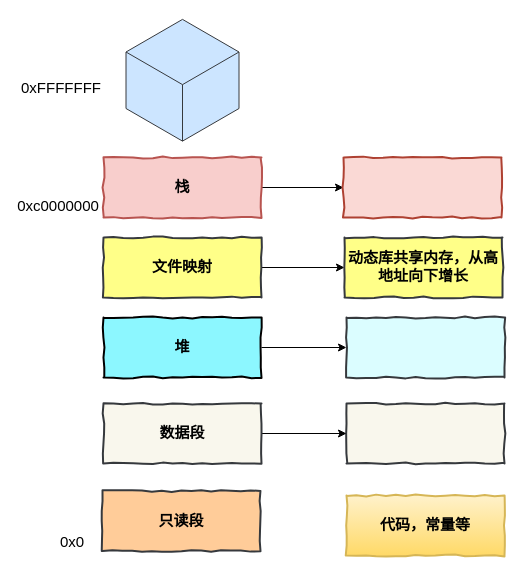
Some shapes in this 522 by 574 pixel diagram are drawn without their labels. The shapes that lost their labels are listed below. From the top down, each one's box as (x1, y1, x2, y2) in pixels, then its label:
(125, 16, 239, 143): 内核空间
(342, 156, 502, 218): 局部变量或者函数调用上下文等
(345, 316, 505, 378): 动态分配的内存，从地地址到高地址增长
(345, 402, 505, 464): 全局变量等
